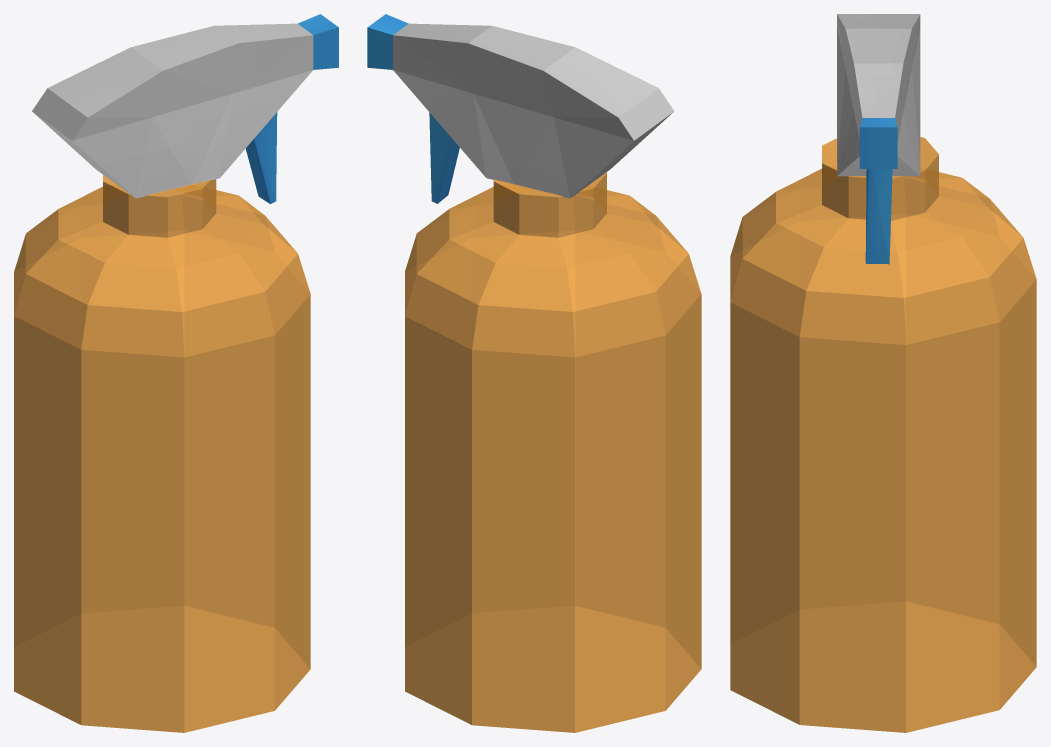
The model's file is sprayer-milanesa0639_HDfEfa2kHZ.glb.
3 renders of one model, left to right at view 1: azimuth 30°, elevation 25°; view 2: azimuth 150°, elevation 25°; view 3: azimuth 270°, elevation 25°, orthographic. The views are drawn at different scales.
Parts seen in each view (by area): view 1: pulverizador_naranja, pulverizador_gris_claro, pulverizador_celeste; view 2: pulverizador_naranja, pulverizador_gris_claro, pulverizador_celeste; view 3: pulverizador_naranja, pulverizador_gris_claro, pulverizador_celeste.
Part boxes in pixels (x1,y1,x2,y2): pulverizador_naranja: [14, 174, 310, 732]; pulverizador_gris_claro: [32, 23, 313, 198]; pulverizador_celeste: [245, 14, 338, 204]; pulverizador_naranja: [405, 172, 701, 732]; pulverizador_gris_claro: [393, 23, 674, 198]; pulverizador_celeste: [367, 14, 459, 203]; pulverizador_naranja: [730, 137, 1036, 732]; pulverizador_gris_claro: [837, 14, 920, 176]; pulverizador_celeste: [859, 118, 897, 264].
Size of the model in its own units: 2.28 by 4.46 by 1.94.
Materials: 3 (2 with a texture image).
